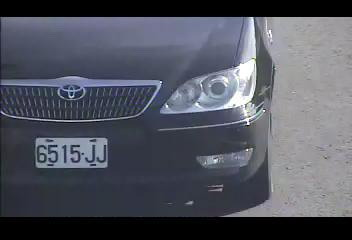plate: (34, 136, 109, 169)
